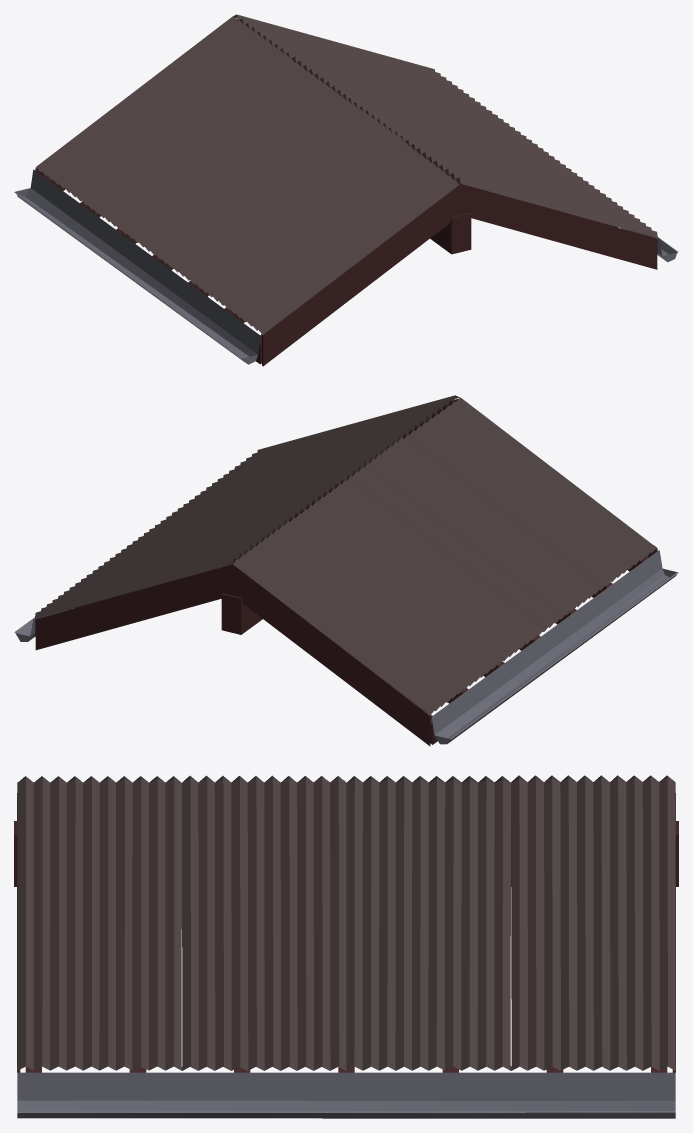
Rendered from CorrugatedMetalRoof.glb.
The picture shows the model from 3 angles, top to bottom: view 1: azimuth 30°, elevation 25°; view 2: azimuth 150°, elevation 25°; view 3: azimuth 270°, elevation 25°; orthographic projection. The views are drawn at different scales.
Parts seen in each view (by area): view 1: corrugatedRoof; view 2: corrugatedRoof; view 3: corrugatedRoof.
Boxes of the visible parts, x1,y1,x2,y2 form: corrugatedRoof: (14, 14, 678, 366); corrugatedRoof: (14, 395, 678, 746); corrugatedRoof: (14, 775, 678, 1118).
Size of what is drawn, in the model's own units: 4.43 by 1.35 by 4.04.
1 material, 1 textured.
